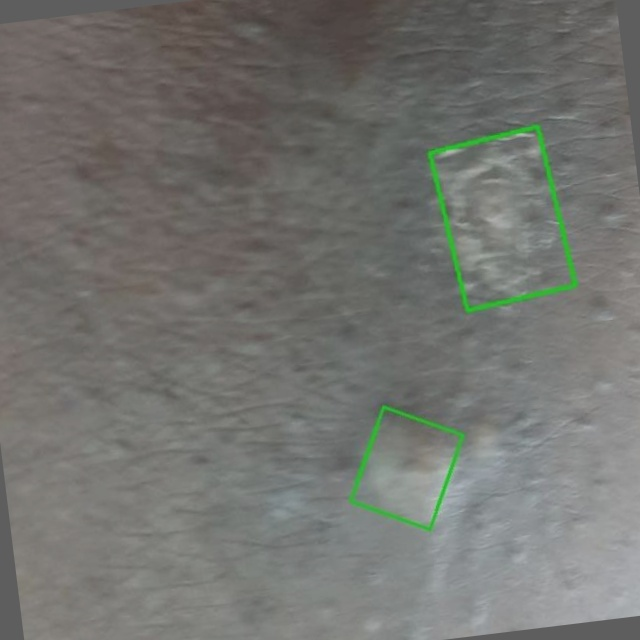Seborrheic Dermatitis: (429, 126, 574, 310), (349, 406, 463, 528)
